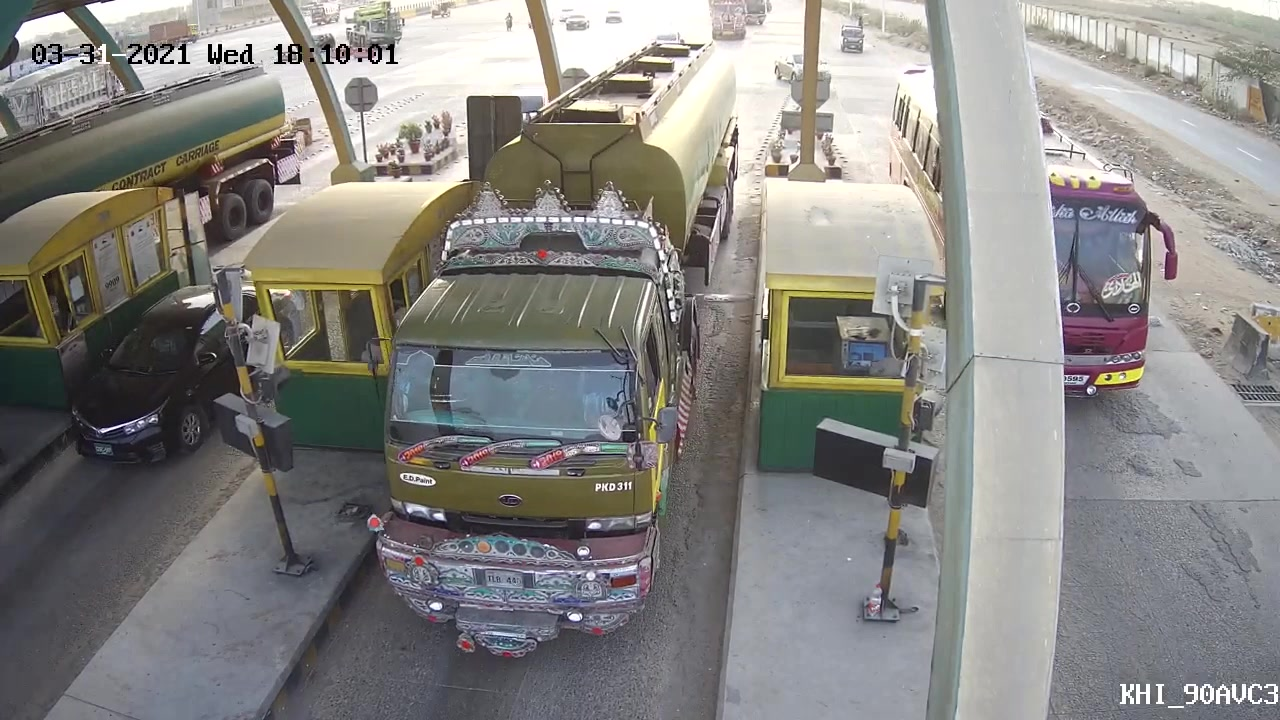F6: (362, 38, 749, 665)
